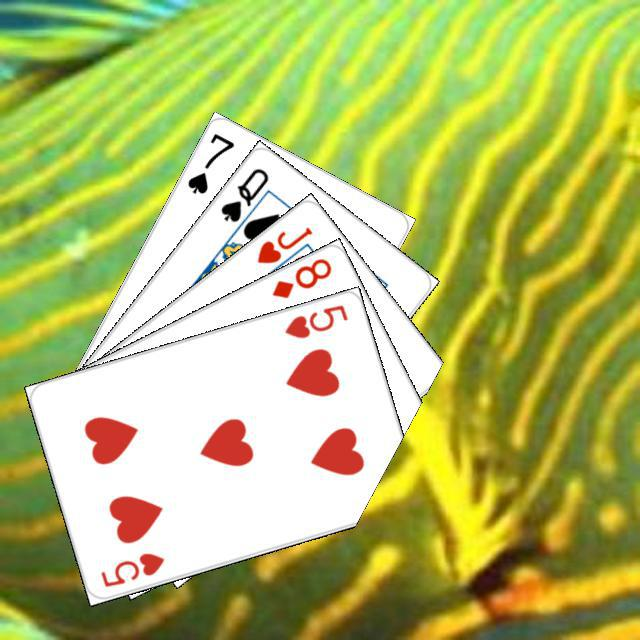5h: (96, 547, 166, 589), (279, 299, 350, 340)
7s: (182, 128, 236, 196)
8d: (267, 253, 334, 301)
Jh: (252, 221, 314, 266)
Qs: (215, 163, 271, 224)
